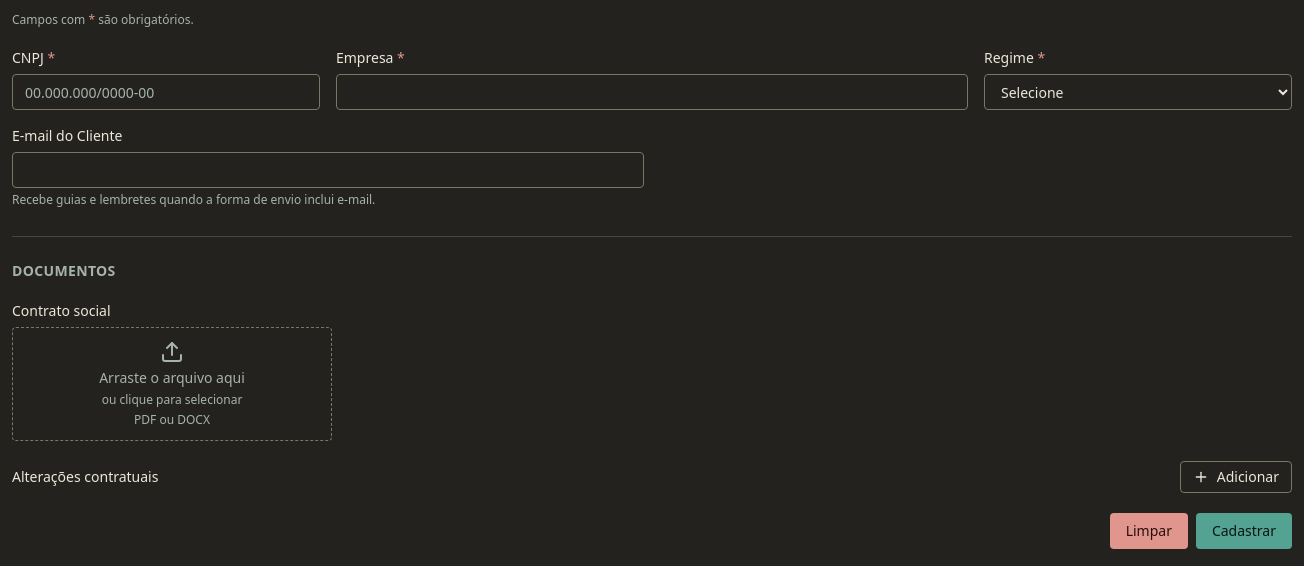
Scenario: CriarClienteContainer › autopreenche Empresa e Regime ao sair do CNPJ
This screenshot has width=1304, height=566.
Type "11.444.777/0001-61" into the field labelled "CNPJ *" at (166, 92), box x1=12 y1=74 x2=320 y2=110
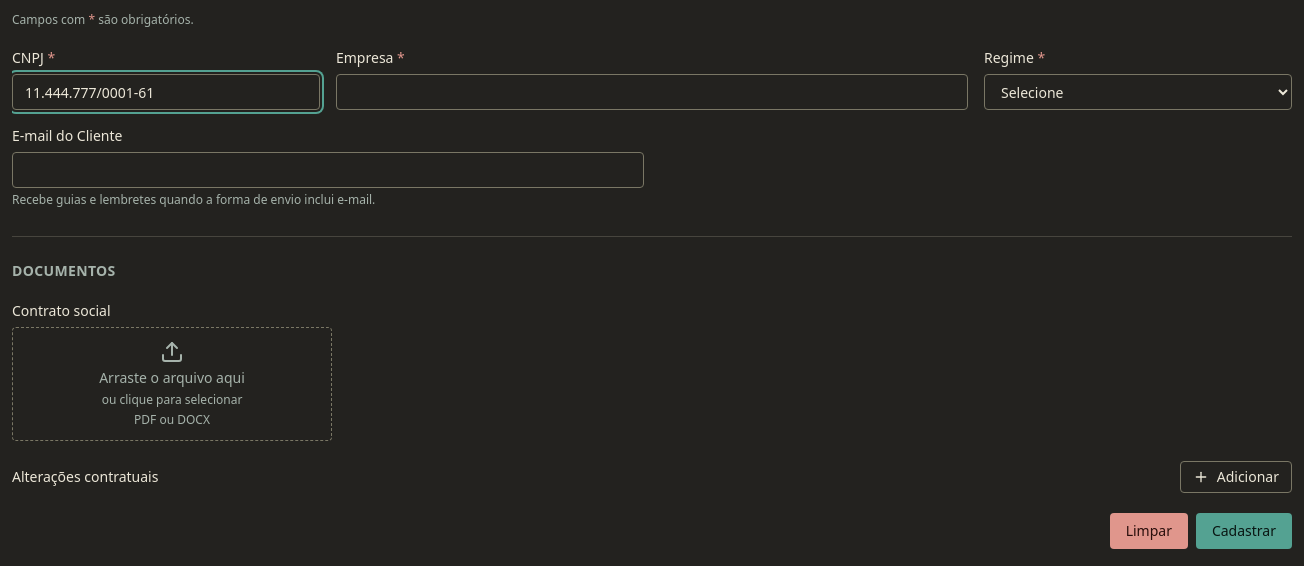
Press Tab
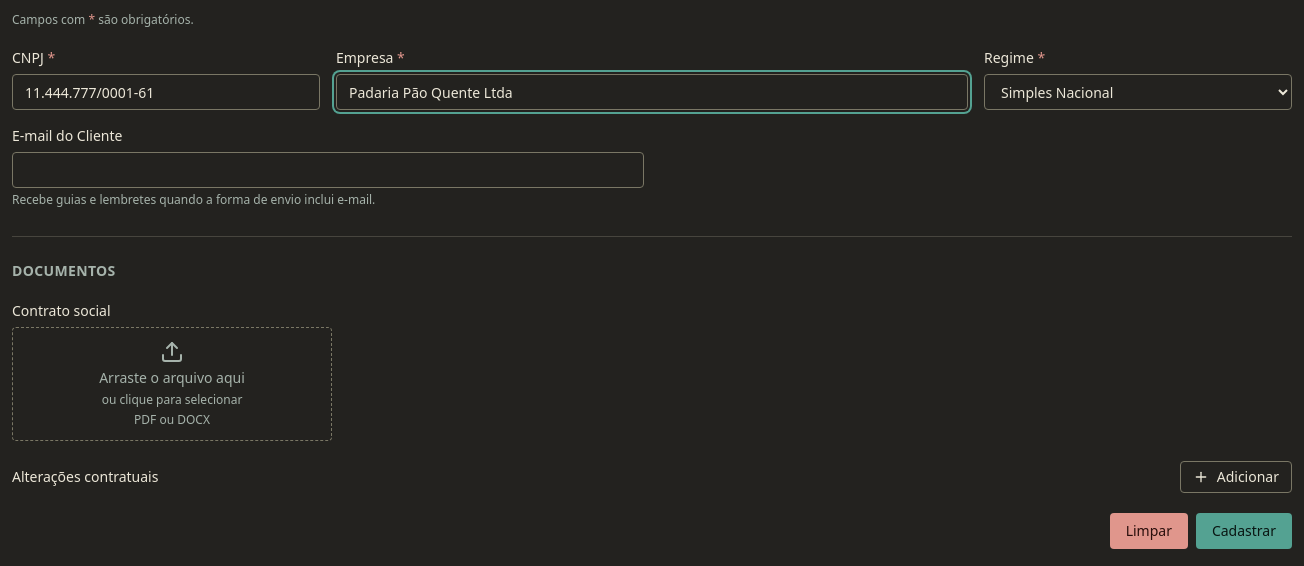
Result: the field labelled "Empresa *" holds "Padaria Pão Quente Ltda" at x1=336 y1=74 x2=968 y2=110
Result: the dropdown labelled "Regime *" shows "Simples Nacional" at x1=984 y1=74 x2=1292 y2=110
